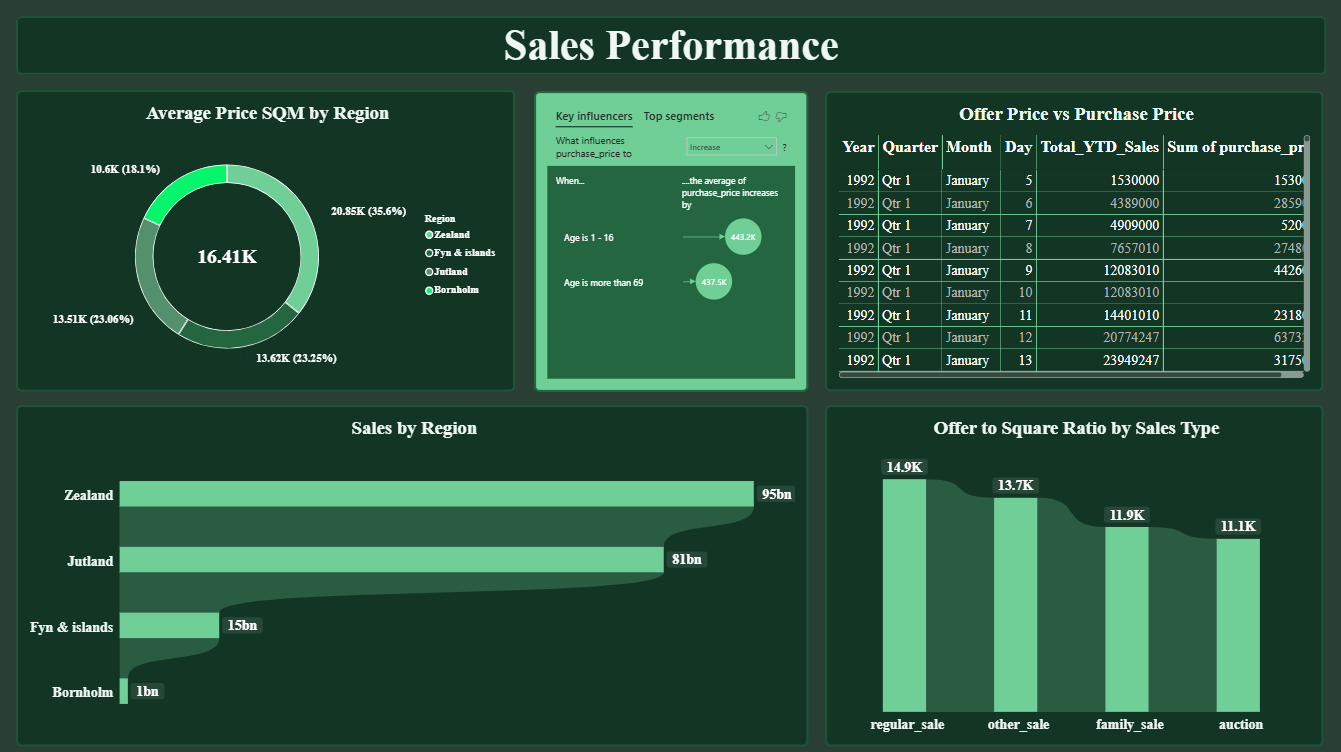

The dashboard page shown, as its layout file describes it:
{"tool":"powerbi","page":{"name":"Duplicate of House Market Overview","canvas":[1920,1080],"ordinal":1},"visuals":[{"type":"shape","box":[24,24,1872,84],"z":0},{"type":"barChart","title":"Sales by Region","fields":{"Category":["Housing Data.region"],"Y":["Measure Table-1.Sales_By_Region"]},"box":[24,580,1132,488],"z":1000},{"type":"tableEx","title":"Offer Price vs Purchase Price","fields":{"Values":["Housing Data.date.Variation.Date Hierarchy.Year","Housing Data.date.Variation.Date Hierarchy.Quarter","Housing Data.date.Variation.Date Hierarchy.Month","Housing Data.date.Variation.Date Hierarchy.Day","Measure Table-1.Total_YTD_Sales","Sum(Housing Data.purchase_price)"]},"box":[1180,131,712,428.6],"z":2000},{"type":"donutChart","title":"Average Price SQM by Region","fields":{"Category":["Housing Data.region"],"Y":["Measure Table-1.Average_Price_Per_Meter"]},"box":[24,130,712.9,431.4],"z":3000},{"type":"keyDriversVisual","fields":{"ExplainBy":["Housing Data.Age"],"Target":["Housing Data.purchase_price"]},"box":[764,132,392,430],"z":4000},{"type":"columnChart","title":"Offer to Square Ratio by Sales Type","fields":{"Category":["Housing Data.sales_type"],"Y":["Measure Table-1.Offer_To_SQM_Ration"]},"box":[1180,580,712,488],"z":5000}]}

Visuals, with their boxes in screenshot pixels (x1, y1, x2, y2), scaled from the page's 1920x1080 canvas onto the 1341x752 screenshot:
shape: x1=17 y1=17 x2=1324 y2=75
"Sales by Region" barChart: x1=17 y1=404 x2=807 y2=744
"Offer Price vs Purchase Price" tableEx: x1=824 y1=91 x2=1321 y2=390
"Average Price SQM by Region" donutChart: x1=17 y1=91 x2=515 y2=391
keyDriversVisual - Housing Data.Age x Housing Data.purchase_price: x1=534 y1=92 x2=807 y2=391
"Offer to Square Ratio by Sales Type" columnChart: x1=824 y1=404 x2=1321 y2=744
